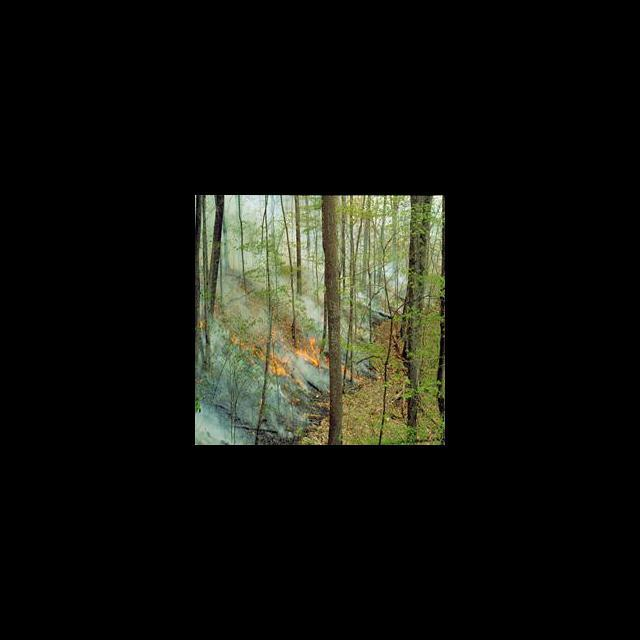Fire: (230, 331, 288, 385), (296, 334, 318, 367)
Smoke: (196, 267, 322, 444)
